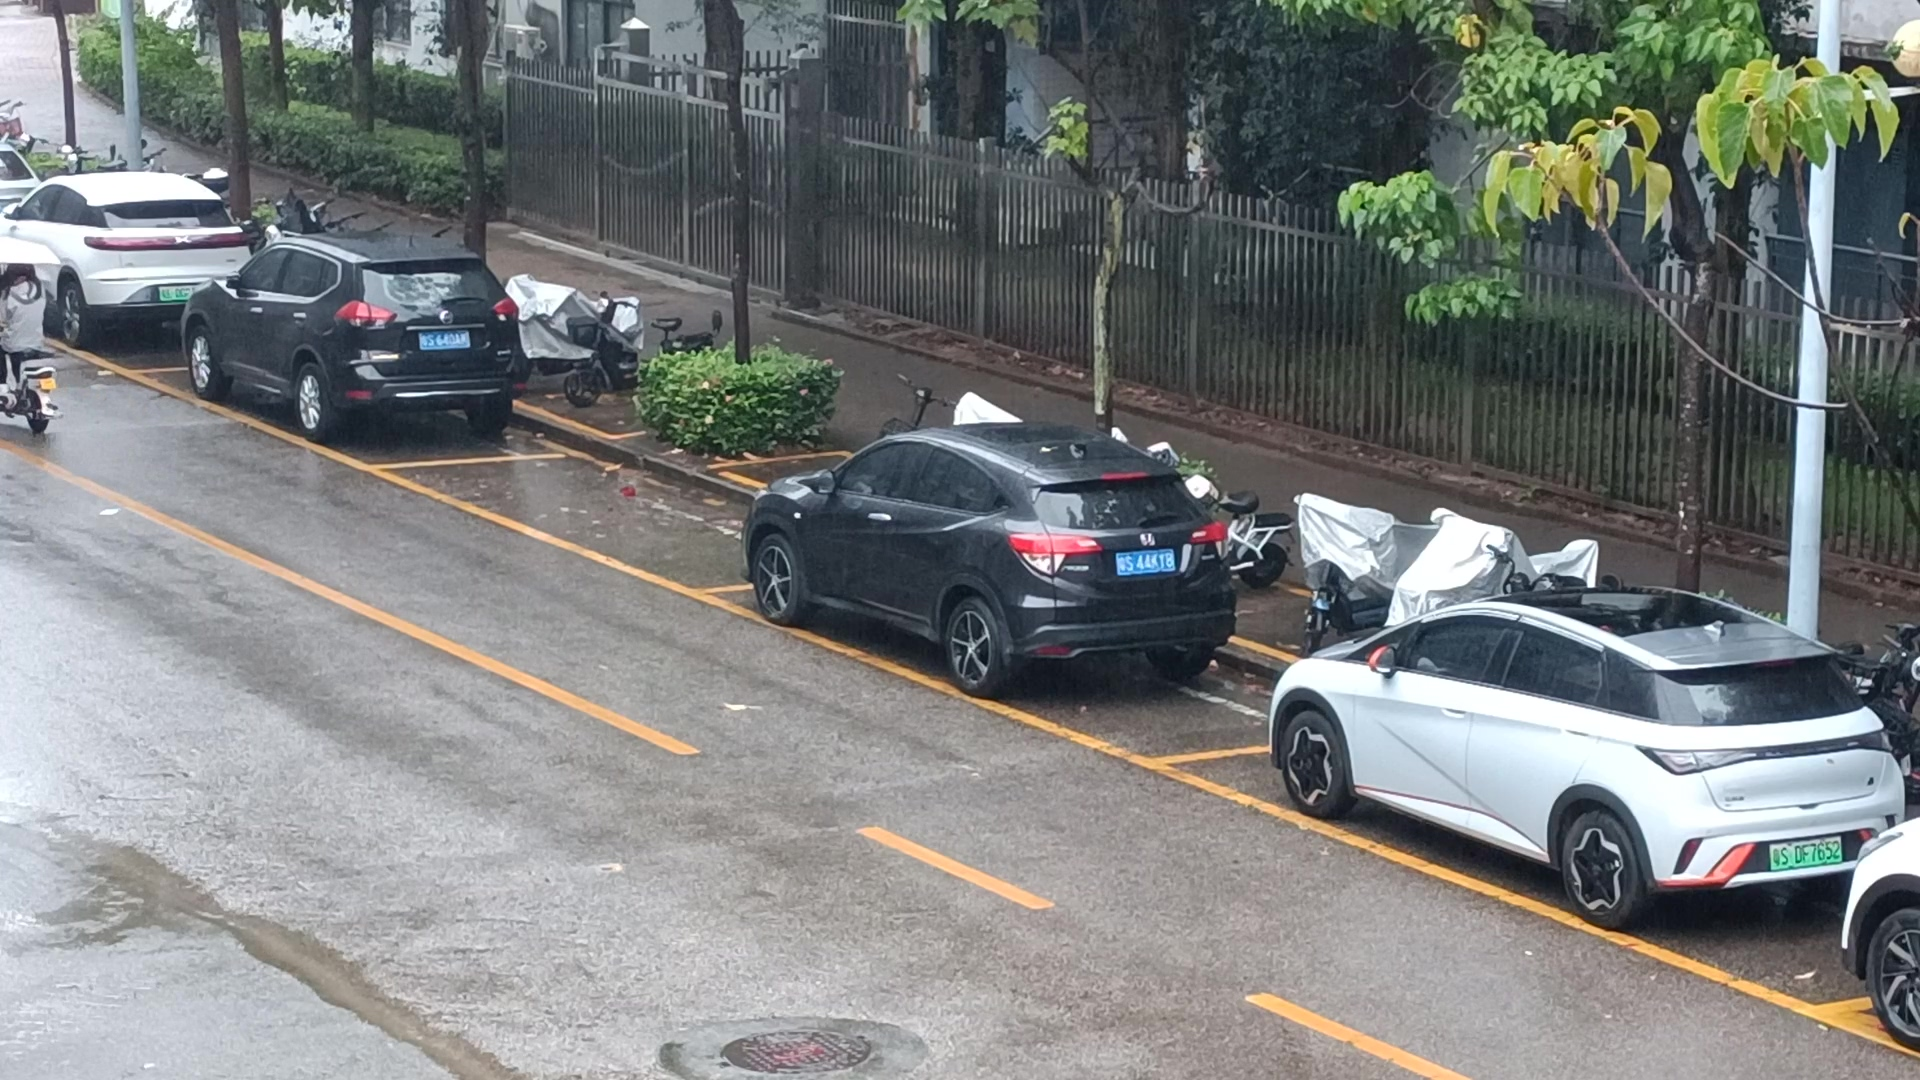space-empty: (380, 447, 875, 595)
space-occupied: (1154, 705, 1892, 1007), (705, 561, 1364, 763), (142, 347, 579, 466)
